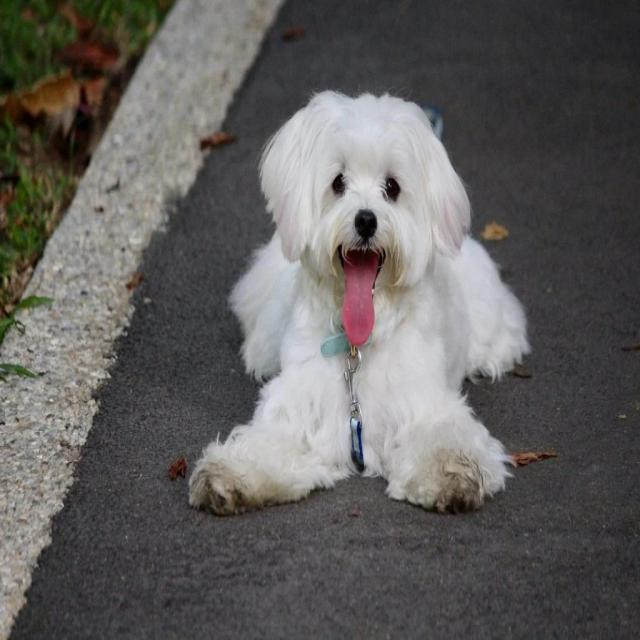maltese: (183, 87, 526, 518)
